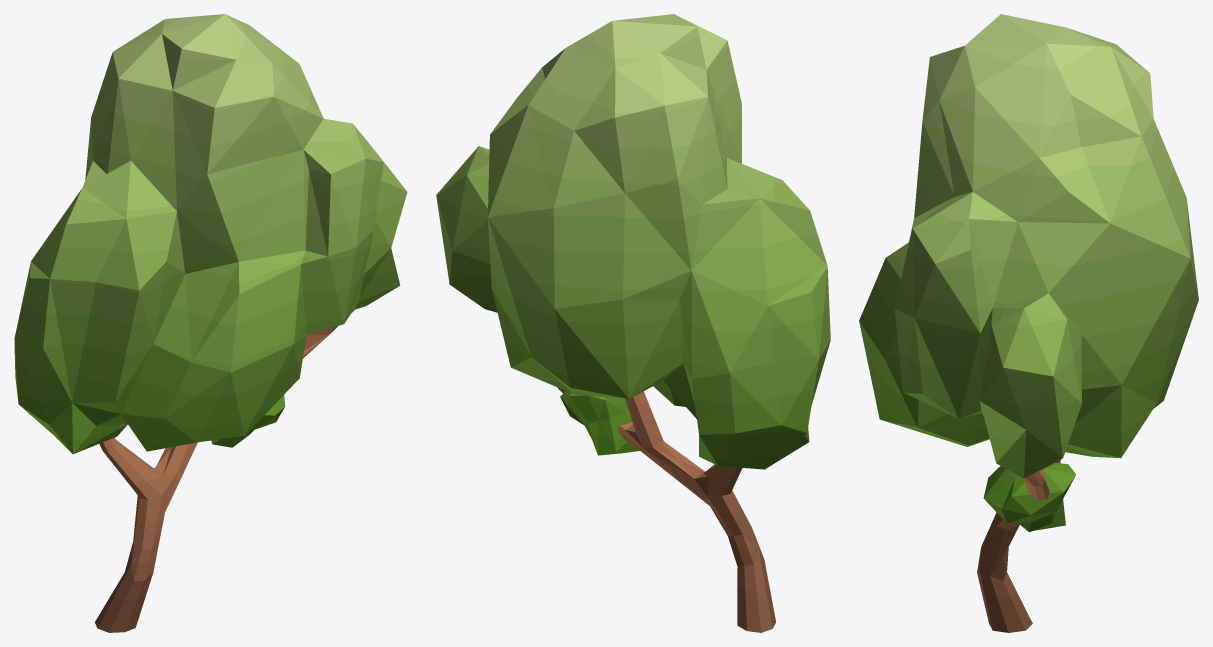
The model's file is tree_green.glb.
3 renders of one model, left to right at view 1: azimuth 30°, elevation 25°; view 2: azimuth 150°, elevation 25°; view 3: azimuth 270°, elevation 25°, orthographic. The views are drawn at different scales.
Visible parts, largest first — view 1: tree_green; view 2: tree_green; view 3: tree_green.
Boxes of the visible parts, left/top/right/bottom form: tree_green: left=14, top=14, right=407, bottom=632; tree_green: left=436, top=14, right=830, bottom=632; tree_green: left=859, top=14, right=1198, bottom=632.
Bounding box in the file's own units: 3.72 × 5.4 × 2.56.
Materials: 1 (1 with a texture image).
